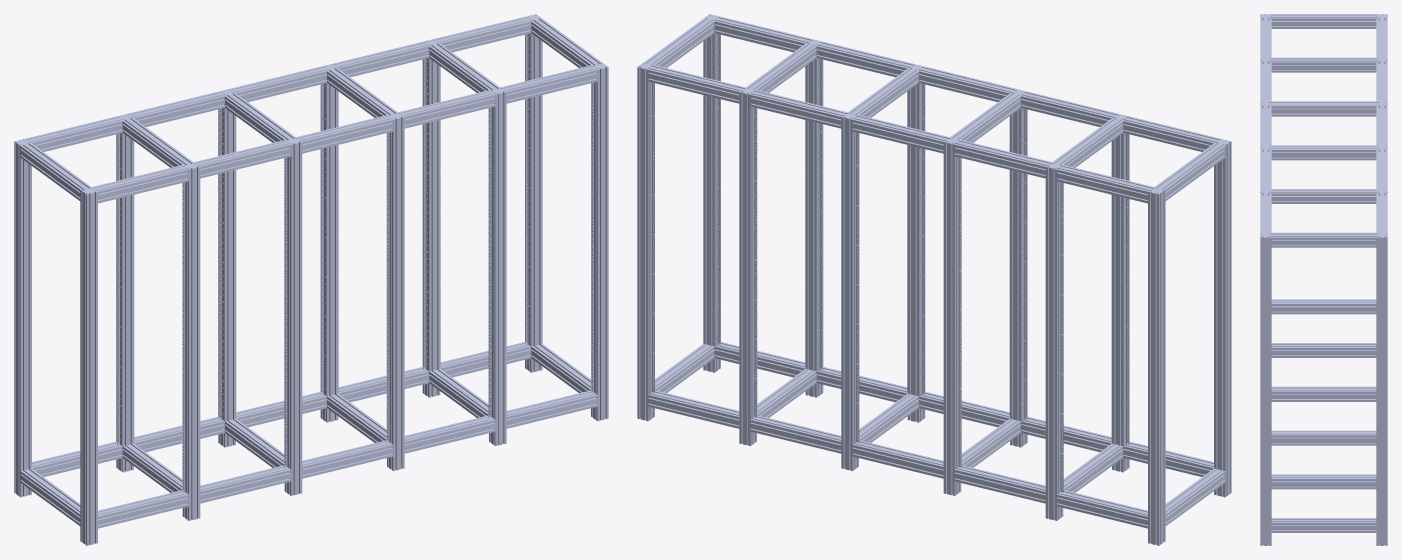
Rendered from Gantry.fbx.
The picture shows the model from 3 angles, left to right: view 1: azimuth 30°, elevation 25°; view 2: azimuth 150°, elevation 25°; view 3: azimuth 270°, elevation 25°; orthographic projection. The views are drawn at different scales.
Parts seen in each view (by area): view 1: Part 14; view 2: Part 14; view 3: Part 14.
Boxes of the visible parts, left/top/right/bottom form: Part 14: left=14, top=14, right=608, bottom=545; Part 14: left=637, top=14, right=1231, bottom=545; Part 14: left=1260, top=14, right=1387, bottom=545.
Size of the model in its own units: 373 by 240 by 90.
